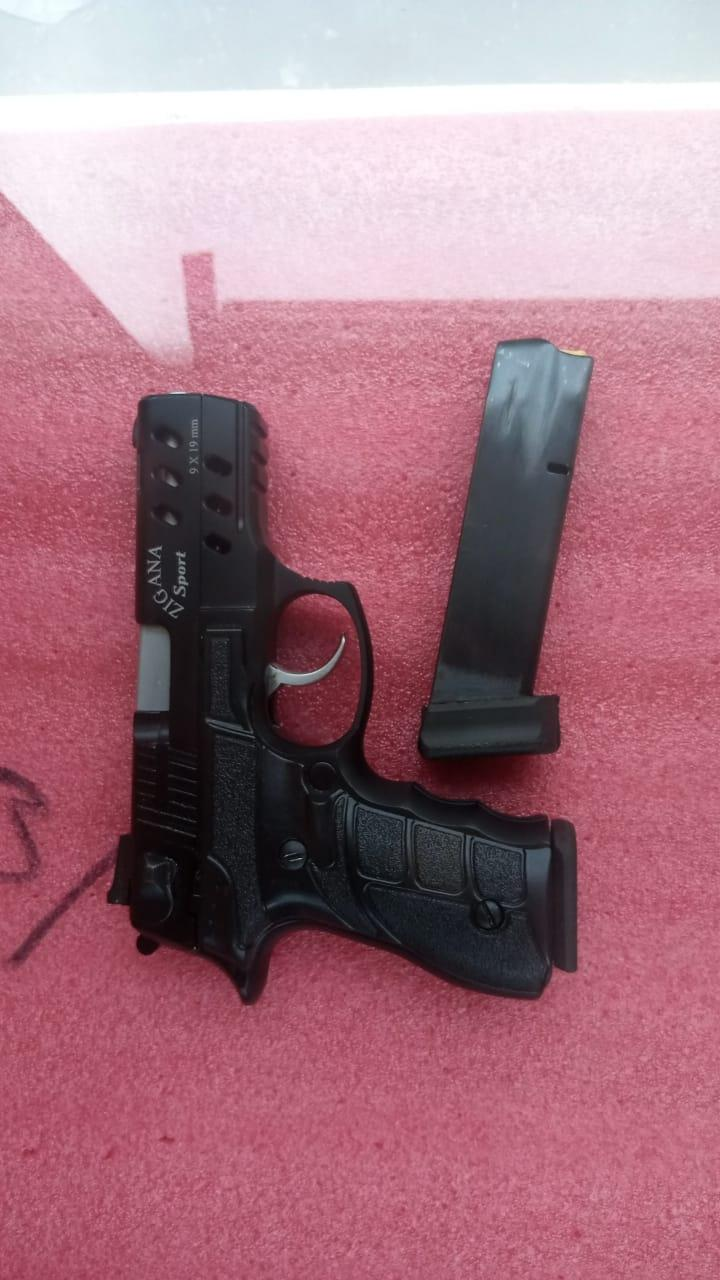weapon: (107, 388, 578, 1008)
